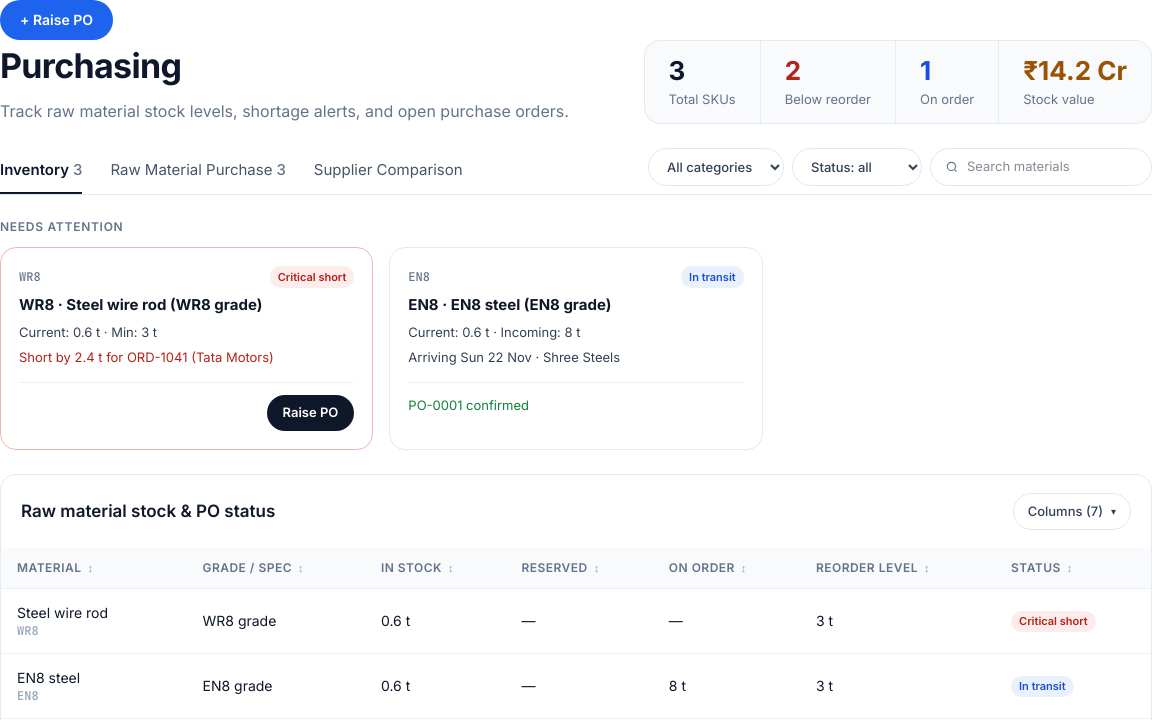
Test: Raise PO from a card is prefilled from the shortfall and sent for approval
Click the button "Raise PO".
click(310, 412)  # box top-left (267, 394), bottom-right (354, 430)
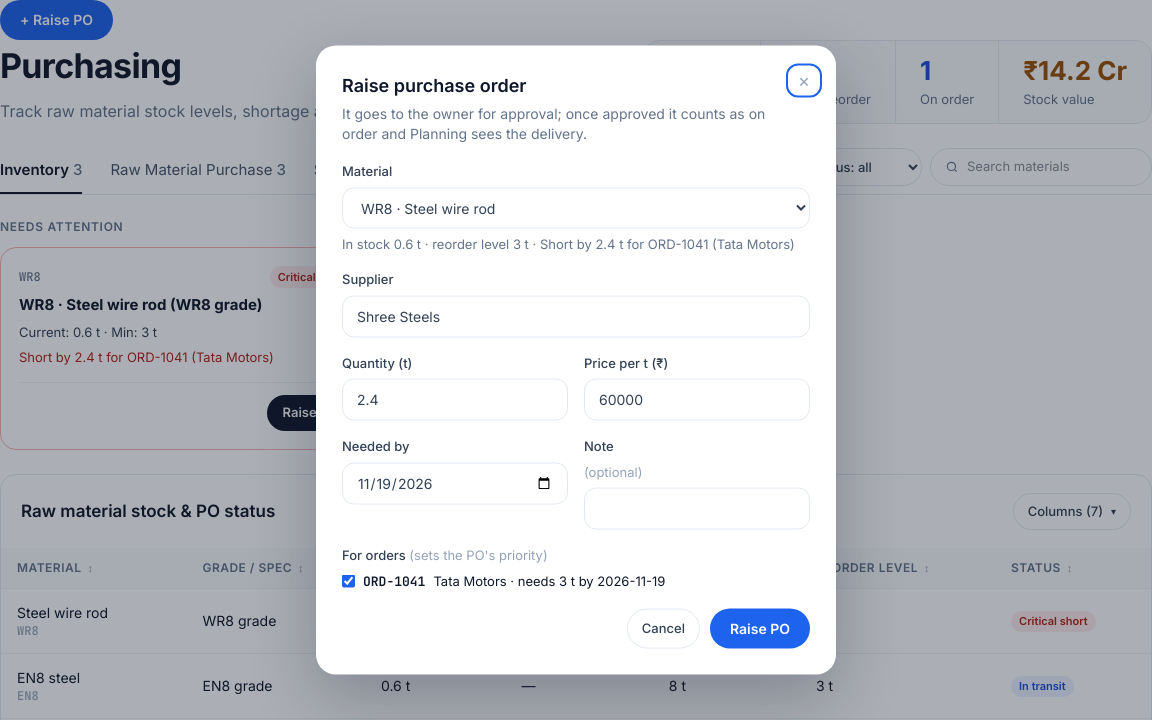
Check: the field labelled "Quantity (t)" holds "2.4", box top-left (342, 378), bottom-right (568, 420)
Check: the date field labelled "Needed by" holds "2026-11-19", box top-left (342, 462), bottom-right (568, 504)
Click the button "Raise PO".
click(760, 628)  # box top-left (710, 608), bottom-right (810, 648)
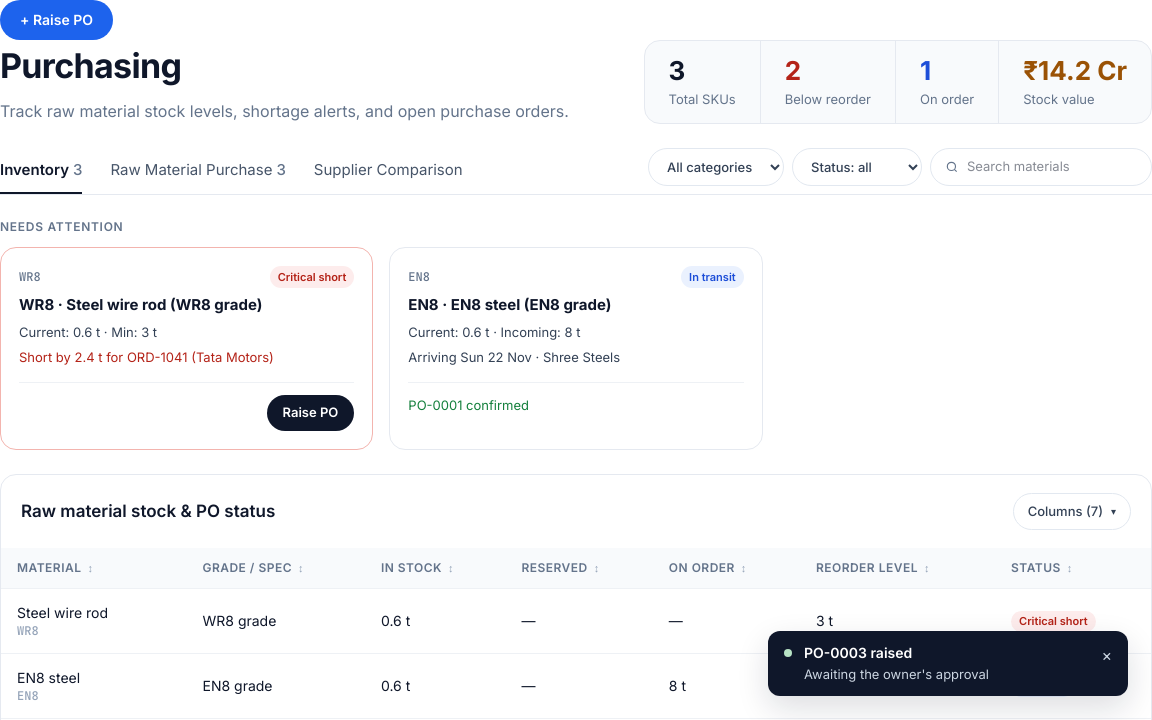
Check: the text "PO-0003 raised" is shown, box top-left (804, 644), bottom-right (912, 660)
